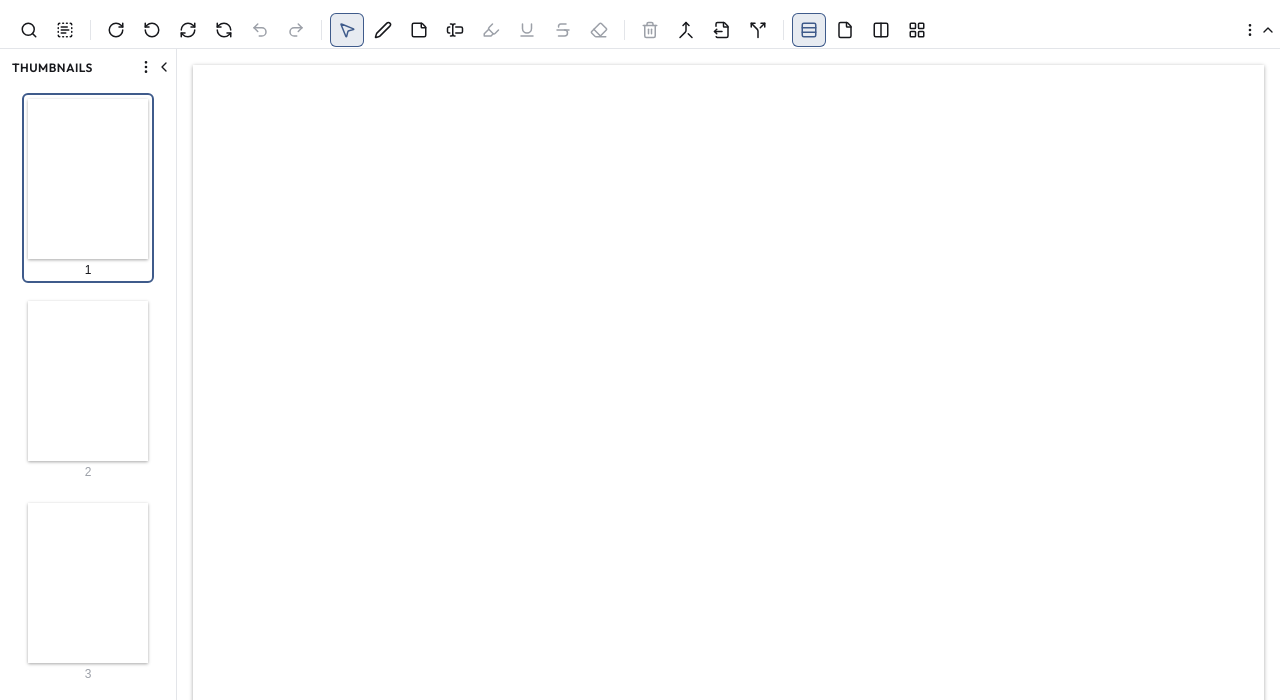
Test case: the_tools_move_menu_offers_the_top_and_the_thumbnails_one_does_not
Click the button named "Move Tools" at (1250,30), box 1242,22 -> 1258,38
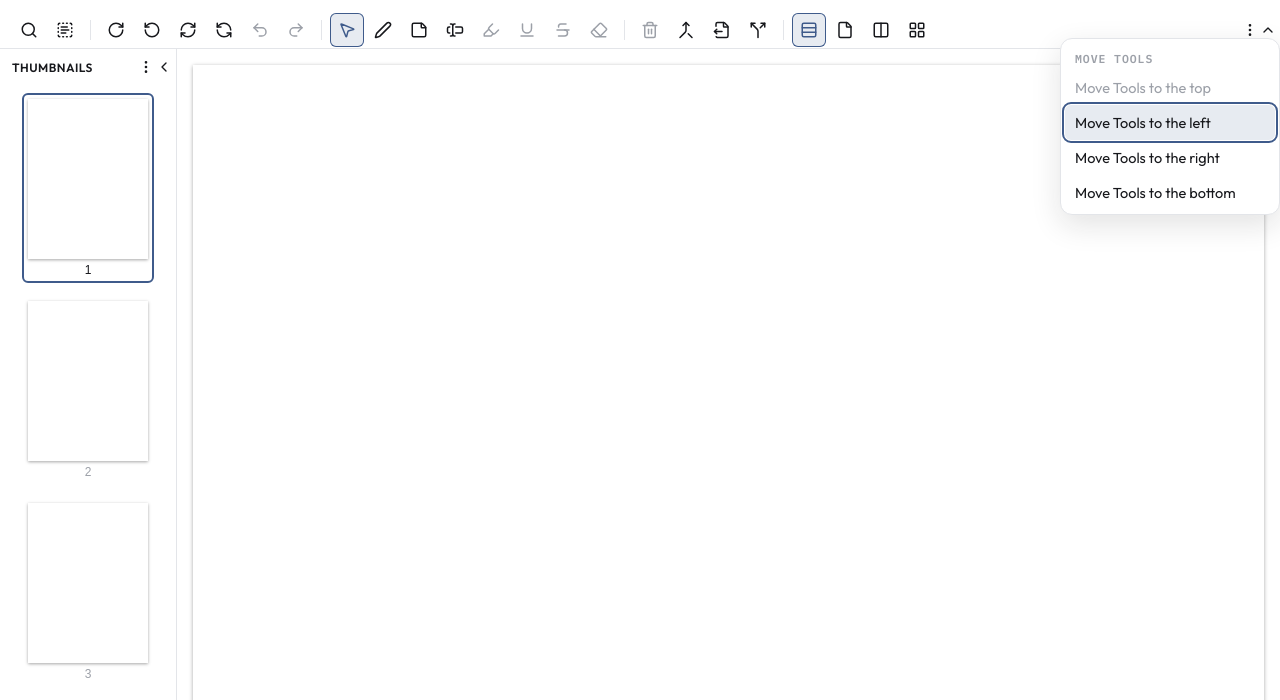
Press Escape in the menu, box 1060,38 -> 1279,215
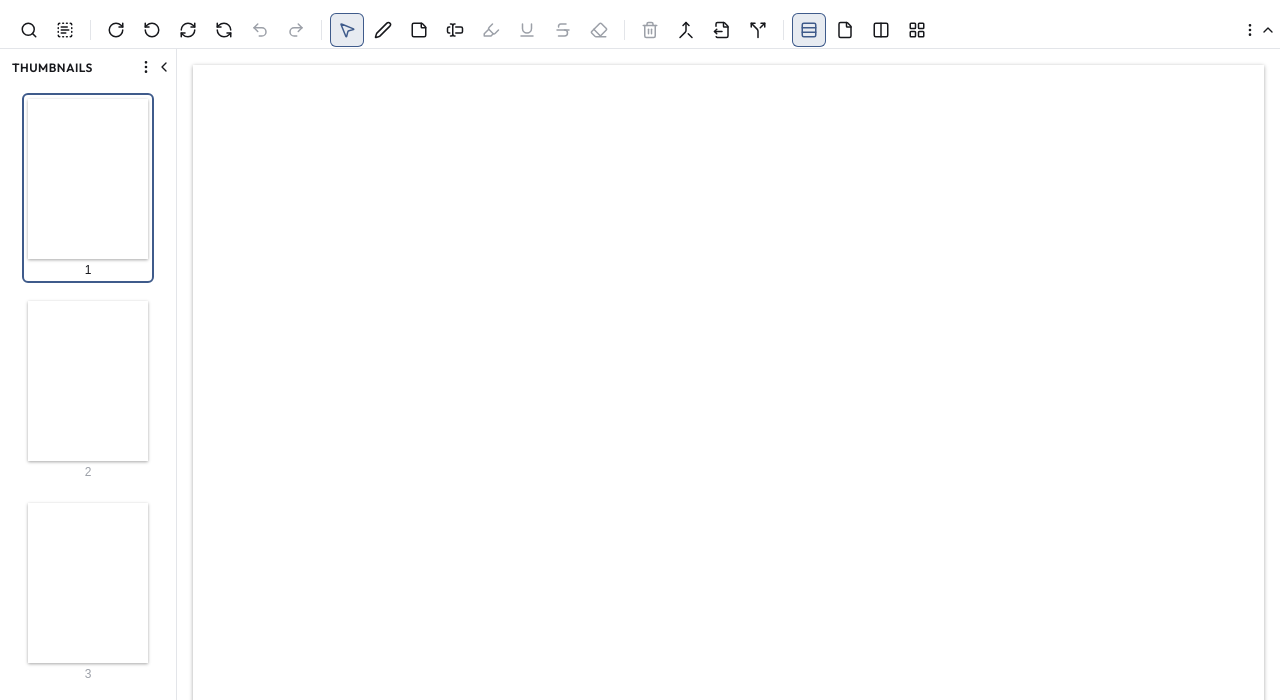
Result: the menu is gone
Click the button named "Move Thumbnails" at (146,67), box 138,59 -> 154,75
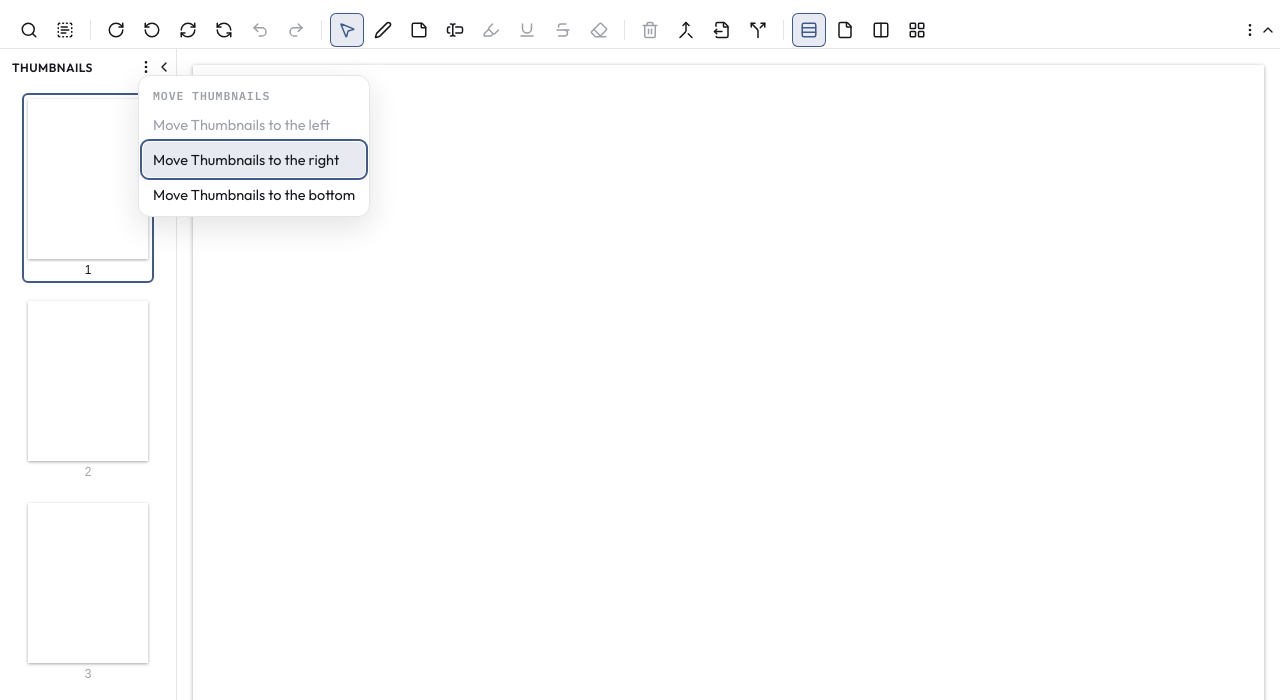
Expected: the menu item "to the top" is not shown
Result: the number of menu items is 3 at 143,107 -> 365,142; 143,142 -> 365,177; 143,177 -> 365,212
